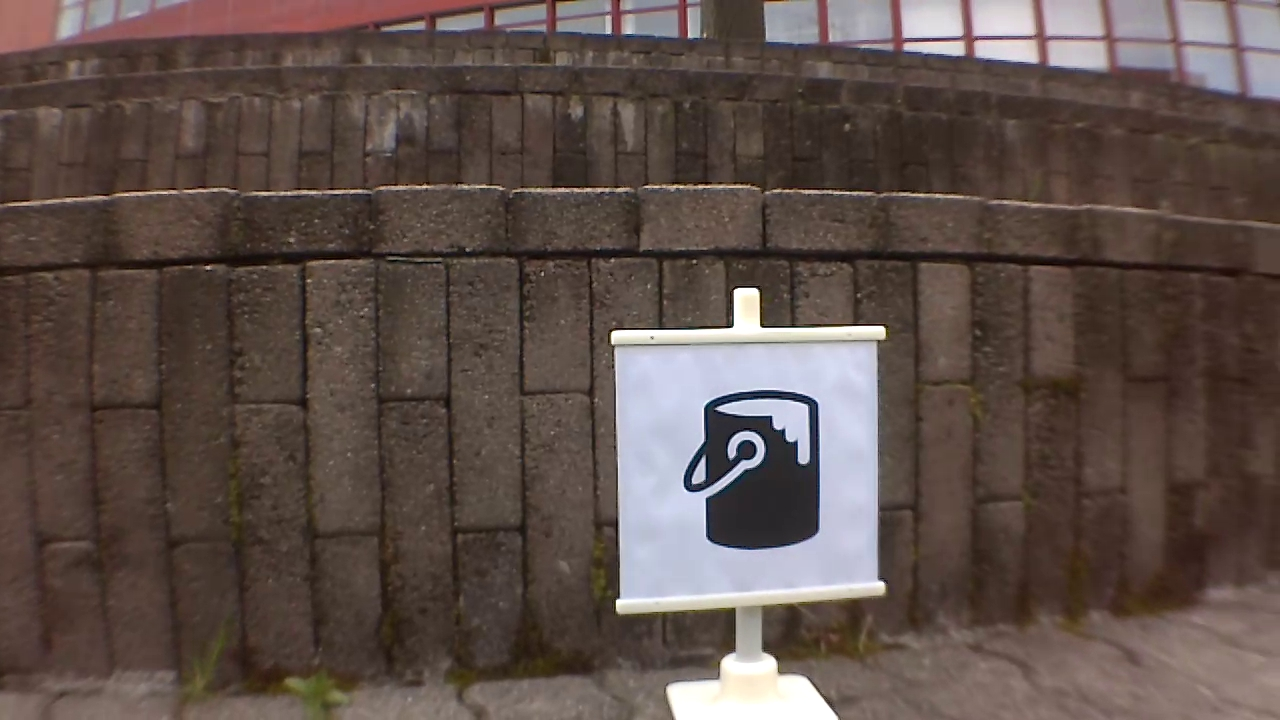bucket: (681, 384, 825, 548)
